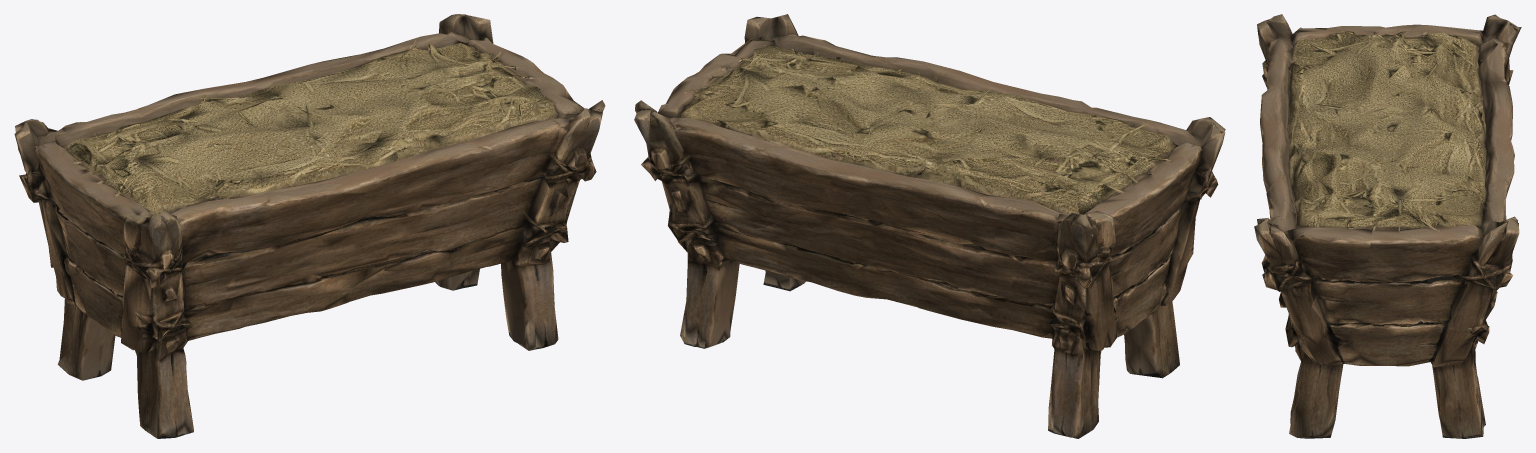
The model's file is camp_hay_trough_game.glb.
3 views of the same model, side by side, from view 1: azimuth 30°, elevation 25°; view 2: azimuth 150°, elevation 25°; view 3: azimuth 270°, elevation 25° (orthographic). The views are drawn at different scales.
Visible parts, largest first — view 1: tripo_node_07c202c6-9287-4c16-b2b0-f23dcb3438d6; view 2: tripo_node_07c202c6-9287-4c16-b2b0-f23dcb3438d6; view 3: tripo_node_07c202c6-9287-4c16-b2b0-f23dcb3438d6.
Boxes of the visible parts, x1=… form: tripo_node_07c202c6-9287-4c16-b2b0-f23dcb3438d6: x1=14, y1=14, x2=605, y2=438; tripo_node_07c202c6-9287-4c16-b2b0-f23dcb3438d6: x1=634, y1=14, x2=1225, y2=438; tripo_node_07c202c6-9287-4c16-b2b0-f23dcb3438d6: x1=1254, y1=14, x2=1521, y2=438.
Size of the model in its own units: 0.974 by 0.4931 by 0.5021.
Materials: 1 (1 with a texture image).
